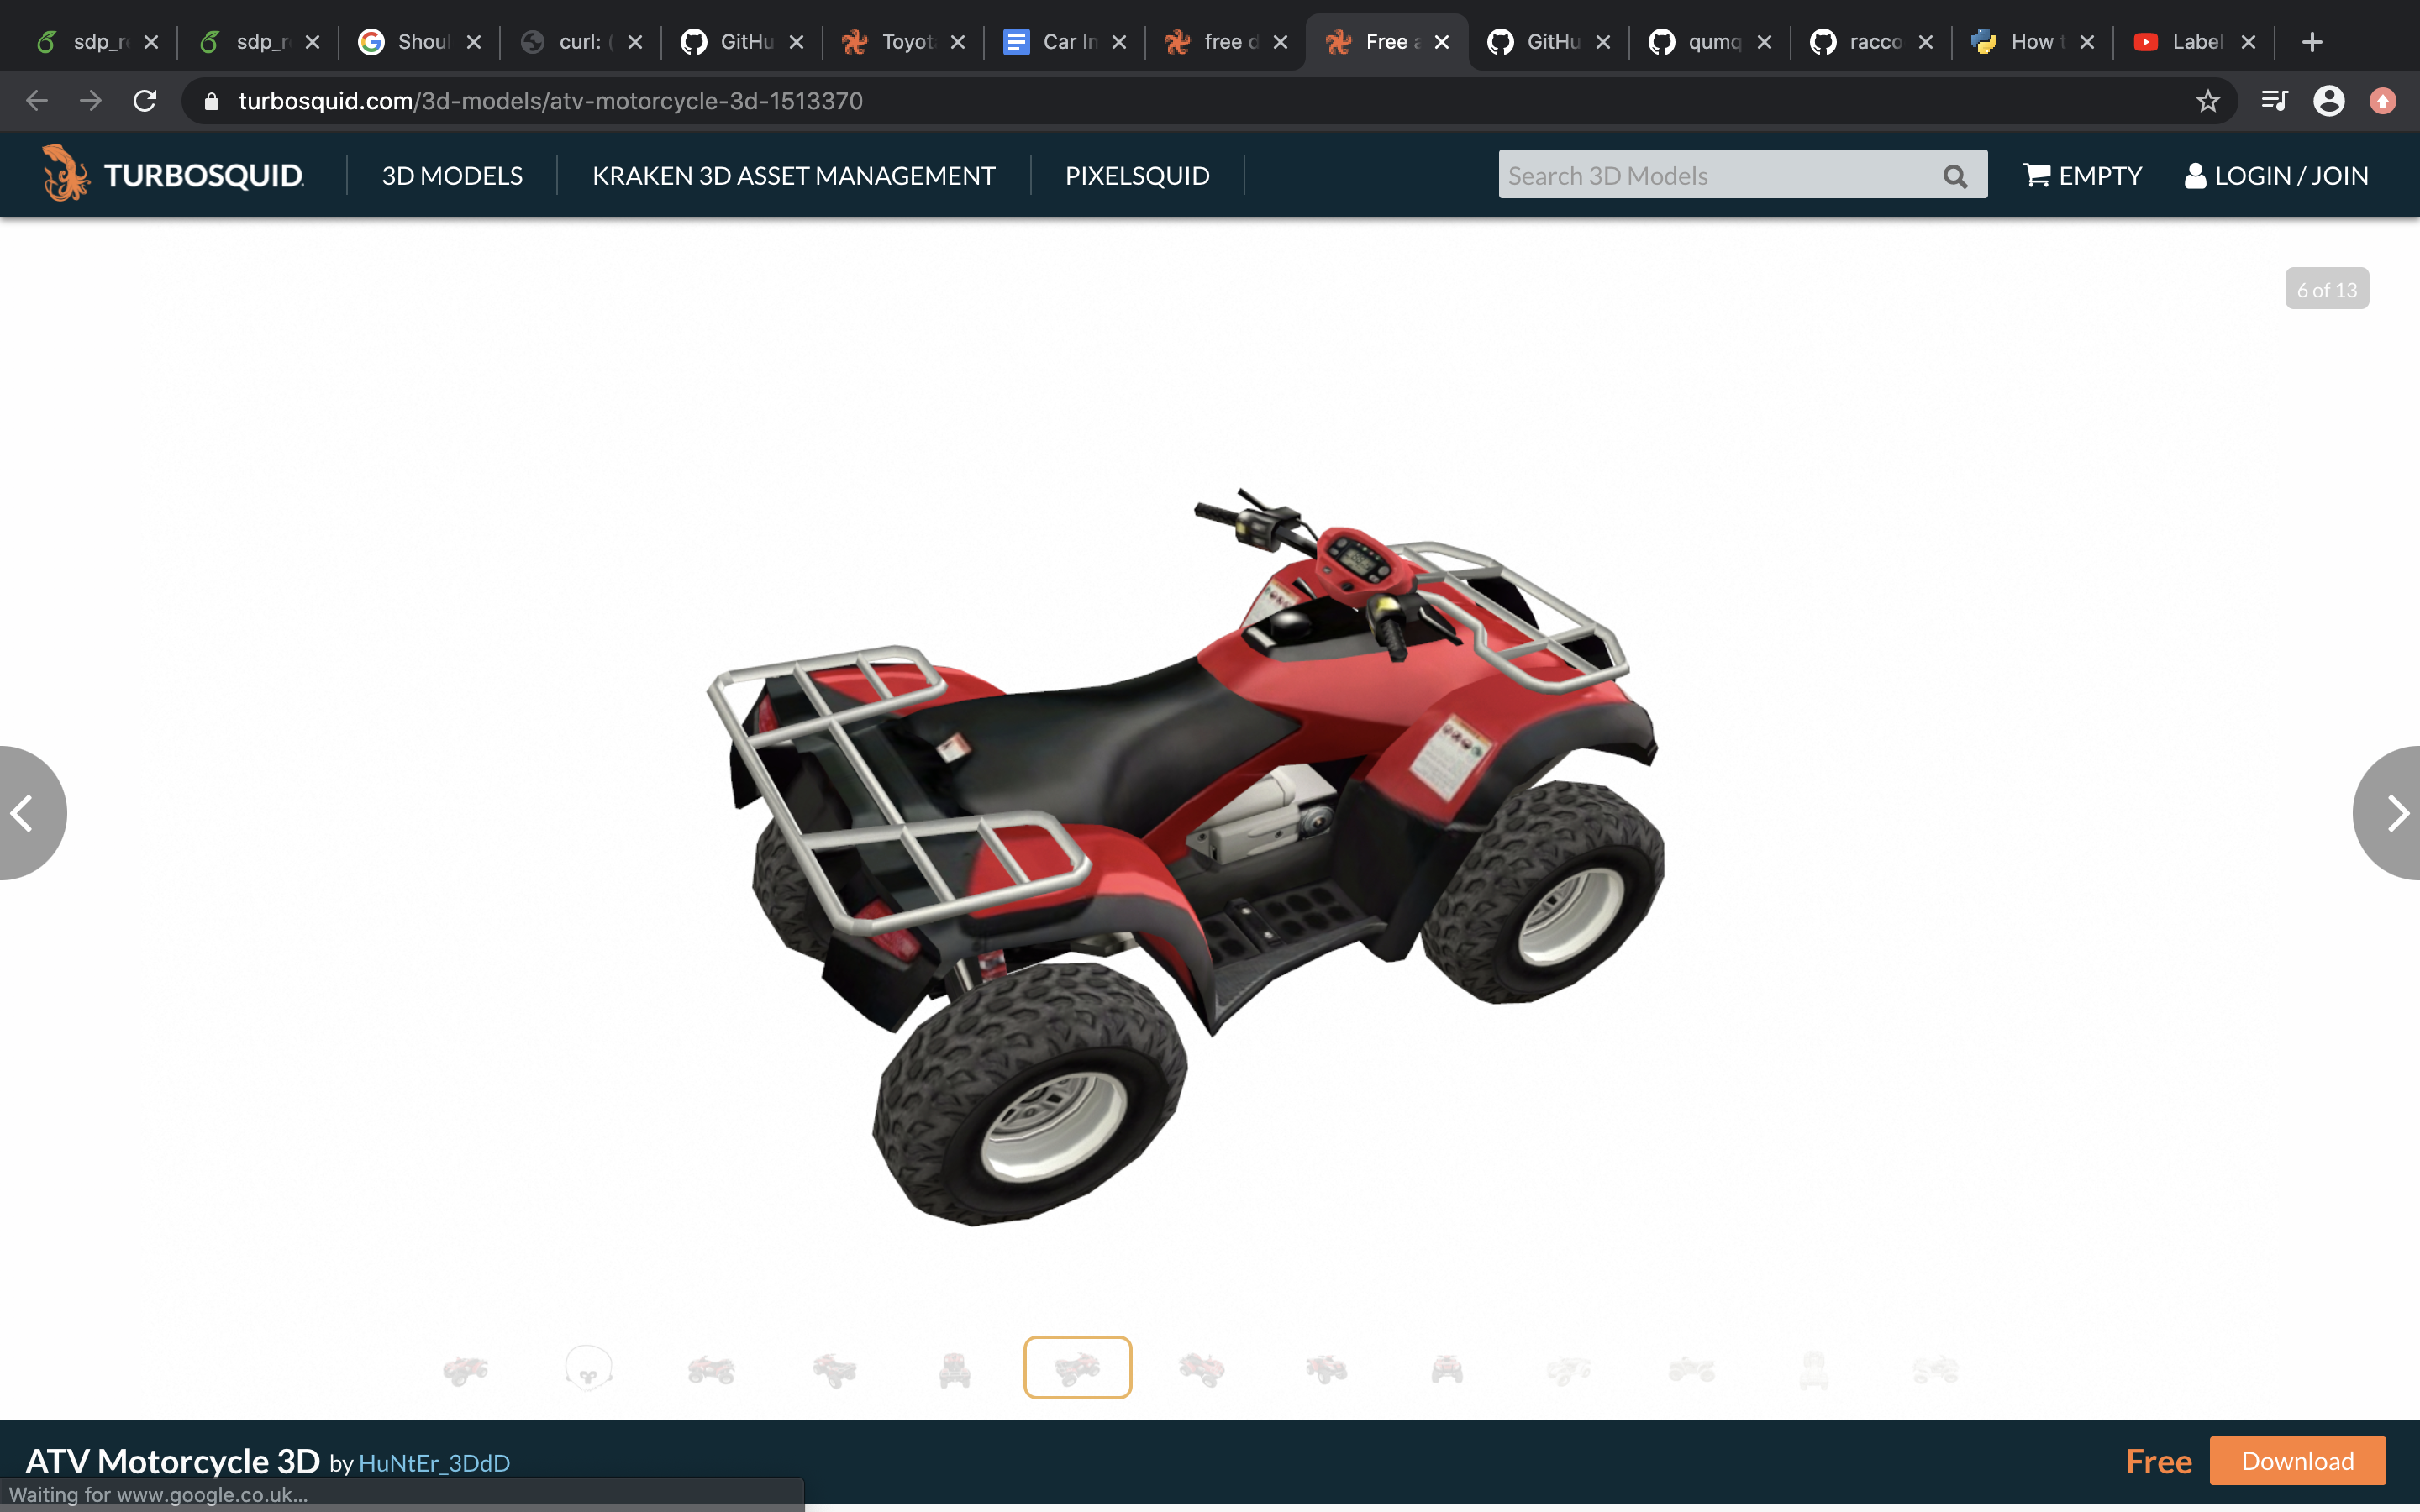hatch: (1246, 592, 1357, 655)
